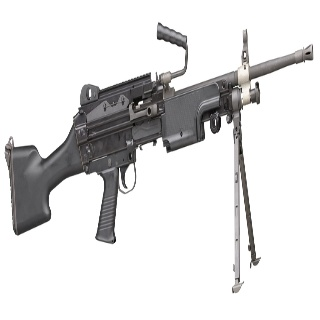rifle: (2, 21, 315, 295)
